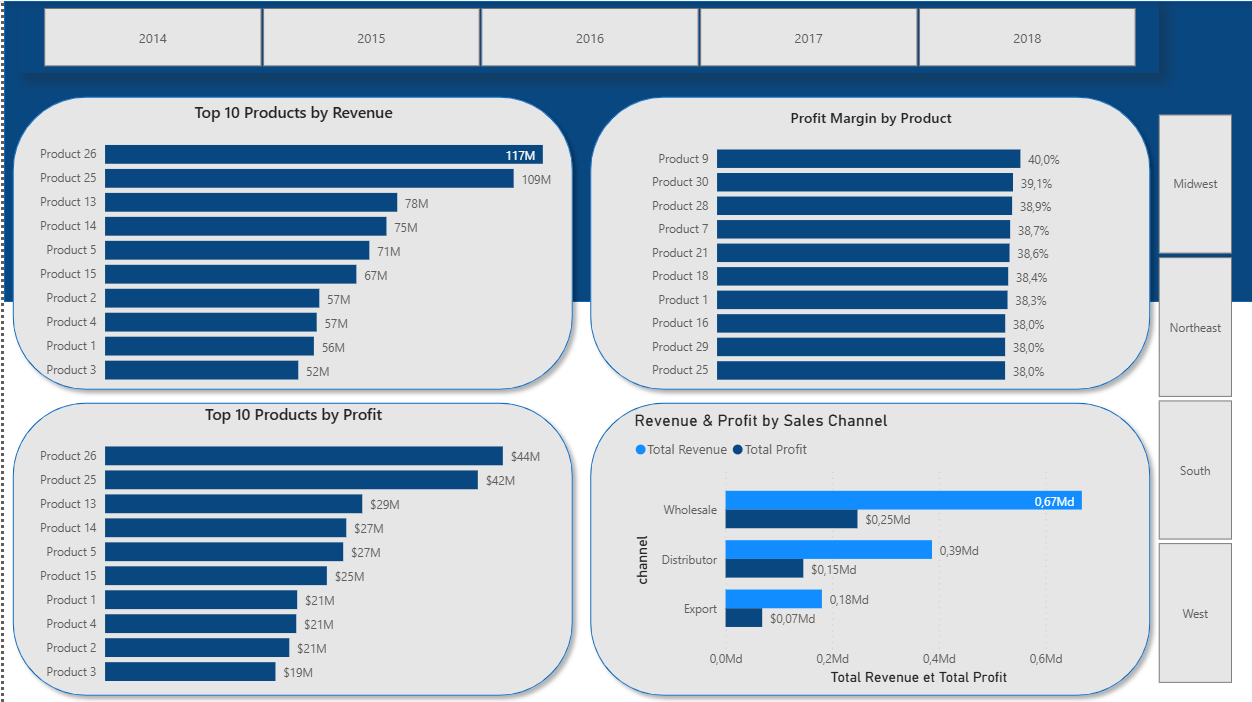

What the dashboard file says about the page in this screenshot:
{"tool":"powerbi","page":{"name":"PRODUCT & CHANNEL PERFORMANCE","canvas":[1280,720],"ordinal":1},"visuals":[{"type":"shape","box":[0,0,1279.5,308.1],"z":0},{"type":"shape","box":[0,89,591,317.8],"z":1000},{"type":"shape","box":[0,402.2,591,317.8],"z":2000},{"type":"shape","box":[591,89,591,317.8],"z":3000},{"type":"shape","box":[591,402.2,591,317.8],"z":4000},{"type":"slicer","fields":{"Values":["Sales_data.year"]},"box":[15.4,0,1166.7,73.7],"z":5000},{"type":"slicer","fields":{"Values":["Sales_data.us_region"]},"box":[1156,109,124.3,595.7],"z":6000},{"type":"barChart","title":"Top 10 Products by Revenue","fields":{"Category":["Sales_data.product_name"],"Y":["Measures_.Total Revenue"]},"box":[26.1,102.9,540.4,299.4],"z":7000},{"type":"barChart","title":"Profit Margin by Product","fields":{"Category":["Sales_data.product_name"],"Y":["Measures_.Profit Margin %"]},"box":[652.5,109,469.8,293.2],"z":8000},{"type":"barChart","title":"Top 10 Products by Profit","fields":{"Category":["Sales_data.product_name"],"Y":["Measures_.Total Profit"]},"box":[26.1,411.4,540.4,299.4],"z":9000},{"type":"clusteredBarChart","title":"Revenue & Profit by Sales Channel","fields":{"Category":["Sales_data.channel"],"Y":["Measures_.Total Revenue","Measures_.Total Profit"]},"box":[640.2,419.1,515.8,285.5],"z":10000}]}

Visuals, with their boxes in screenshot pixels (x1, y1, x2, y2), scaled from the page's 1280x720 canvas onto the 1252x702 screenshot:
shape: {"left": 0, "top": 0, "right": 1251, "bottom": 300}
shape: {"left": 0, "top": 87, "right": 578, "bottom": 397}
shape: {"left": 0, "top": 392, "right": 578, "bottom": 701}
shape: {"left": 578, "top": 87, "right": 1156, "bottom": 397}
shape: {"left": 578, "top": 392, "right": 1156, "bottom": 701}
slicer - Sales_data.year: {"left": 15, "top": 0, "right": 1156, "bottom": 72}
slicer - Sales_data.us_region: {"left": 1131, "top": 106, "right": 1251, "bottom": 687}
"Top 10 Products by Revenue" barChart: {"left": 26, "top": 100, "right": 554, "bottom": 392}
"Profit Margin by Product" barChart: {"left": 638, "top": 106, "right": 1098, "bottom": 392}
"Top 10 Products by Profit" barChart: {"left": 26, "top": 401, "right": 554, "bottom": 693}
"Revenue & Profit by Sales Channel" clusteredBarChart: {"left": 626, "top": 409, "right": 1131, "bottom": 687}
